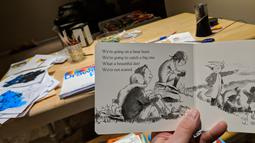text block: (98, 44, 158, 75)
